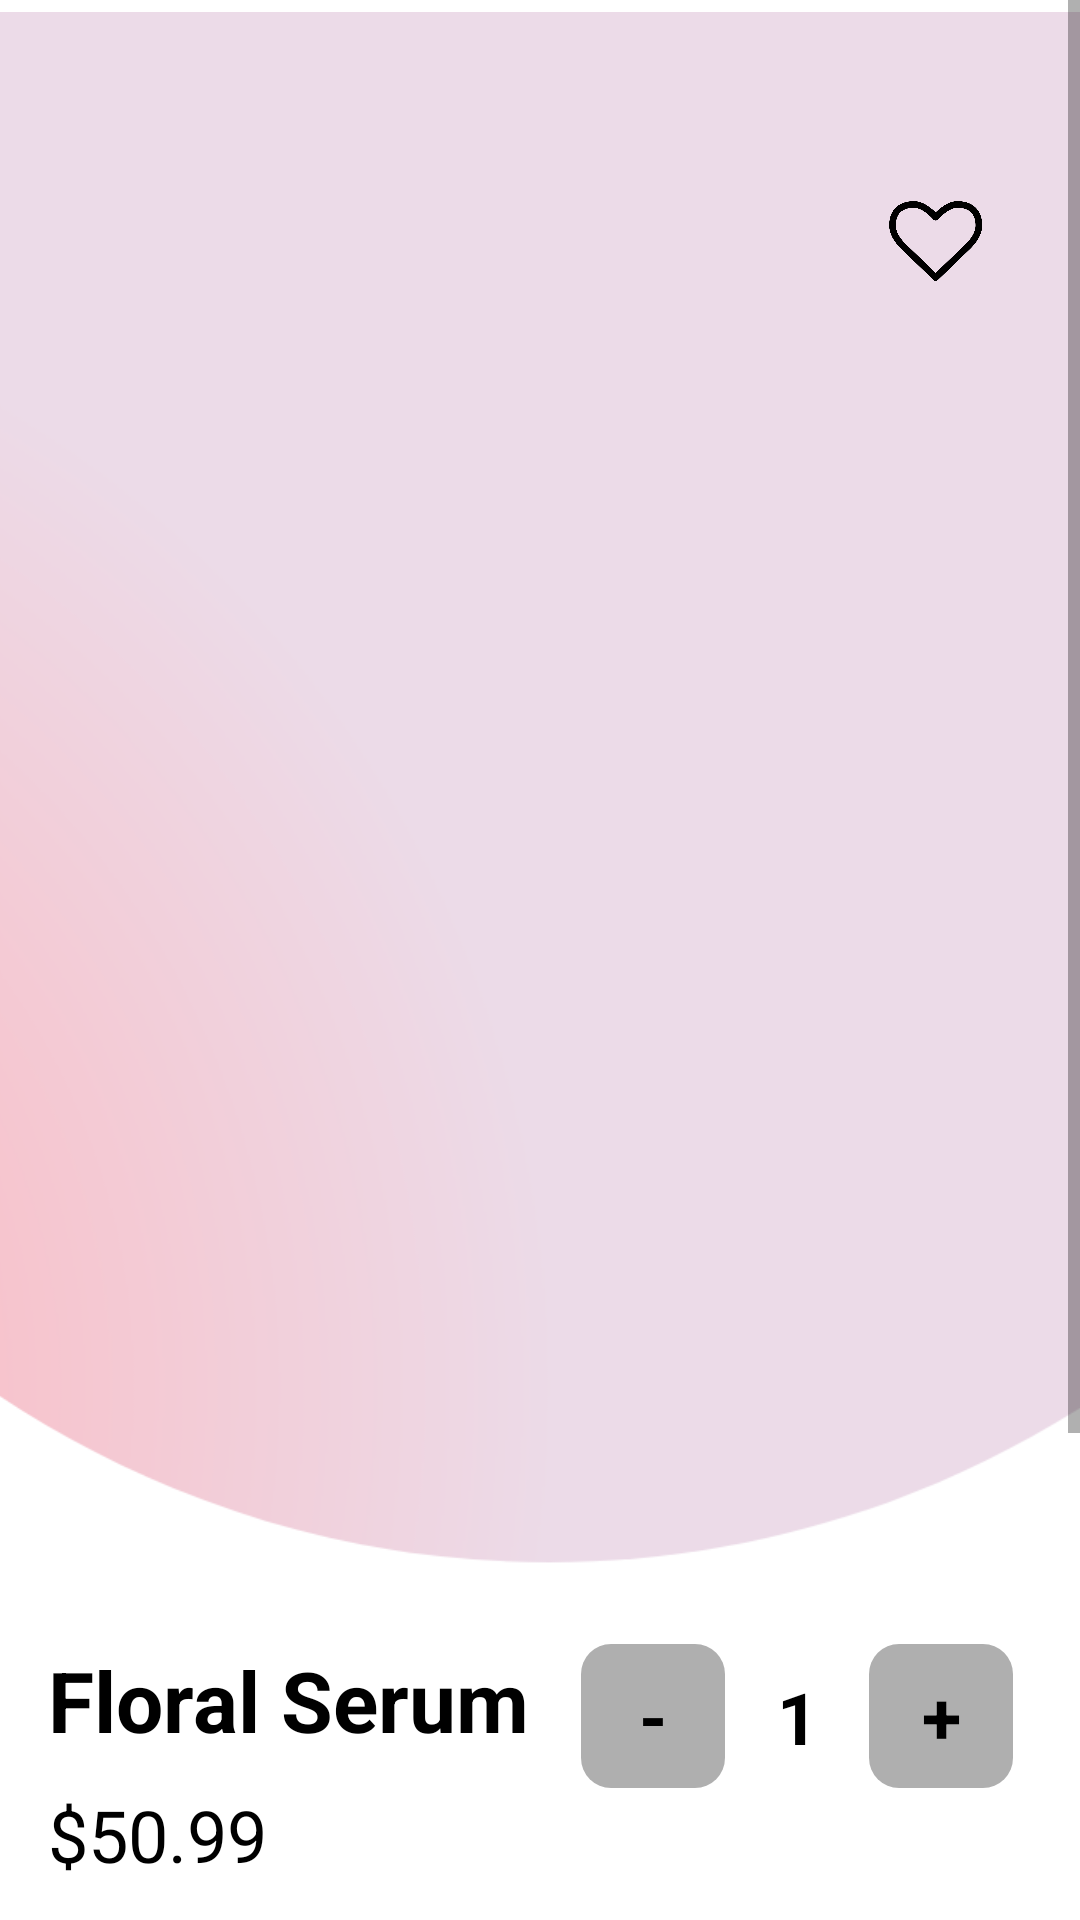

Where to tap for icons on this 1080×1920 app screen, as (x=x, y=y):
heart unfilled: (x=935, y=241)
